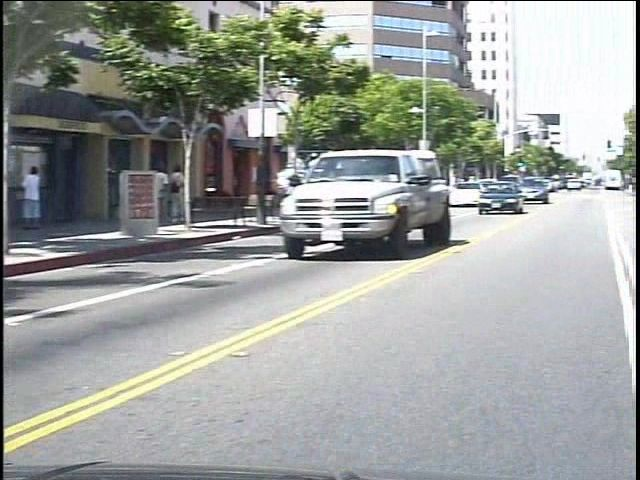person: (33, 160, 61, 234), (179, 164, 201, 228), (163, 163, 184, 227)
